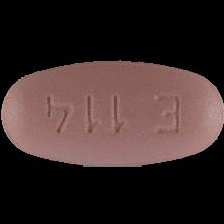42291-875: (0, 0, 224, 224)
